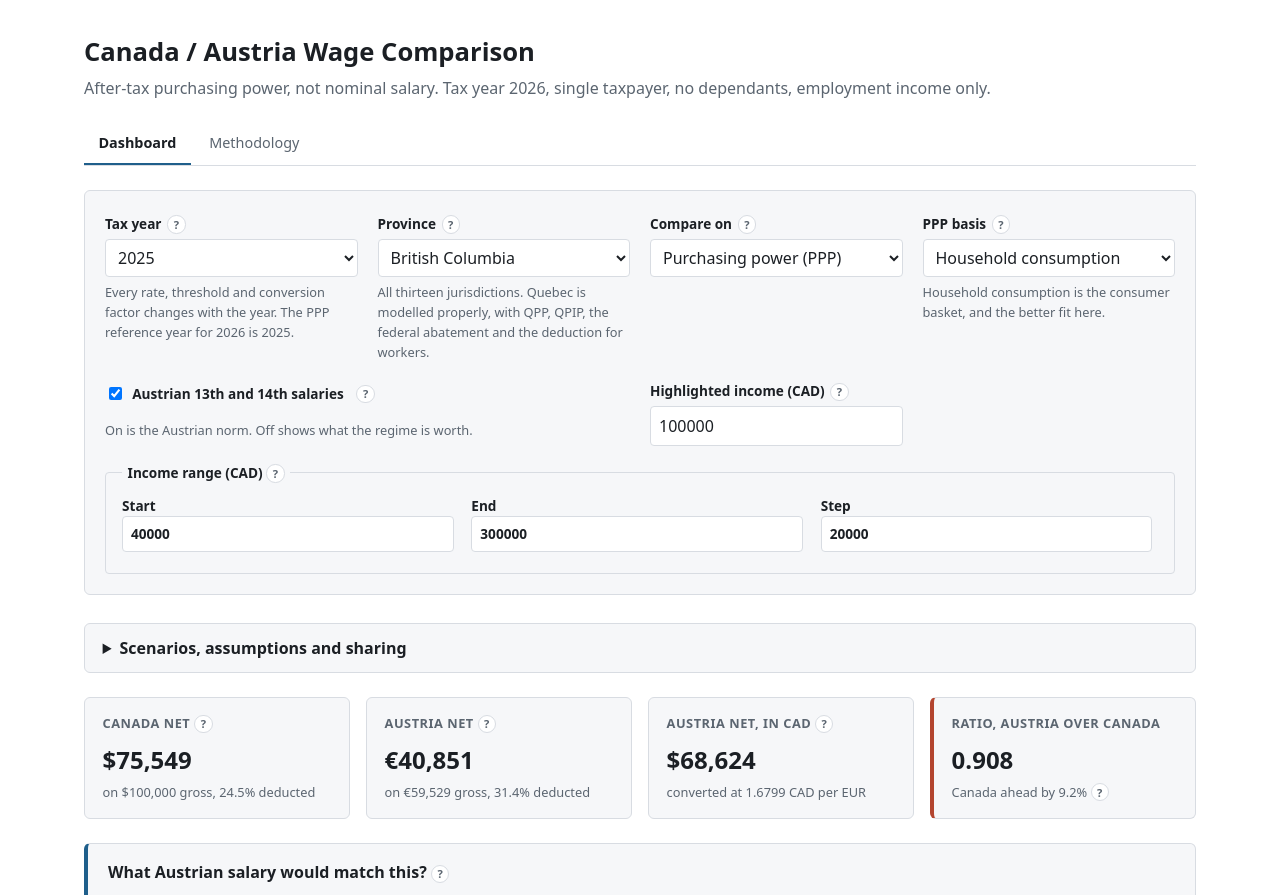
Test: App › names the selected tax year in the lede
Select "2025" in the dropdown with id "taxYear" at (231, 258), box top-left (105, 239), bottom-right (358, 277)
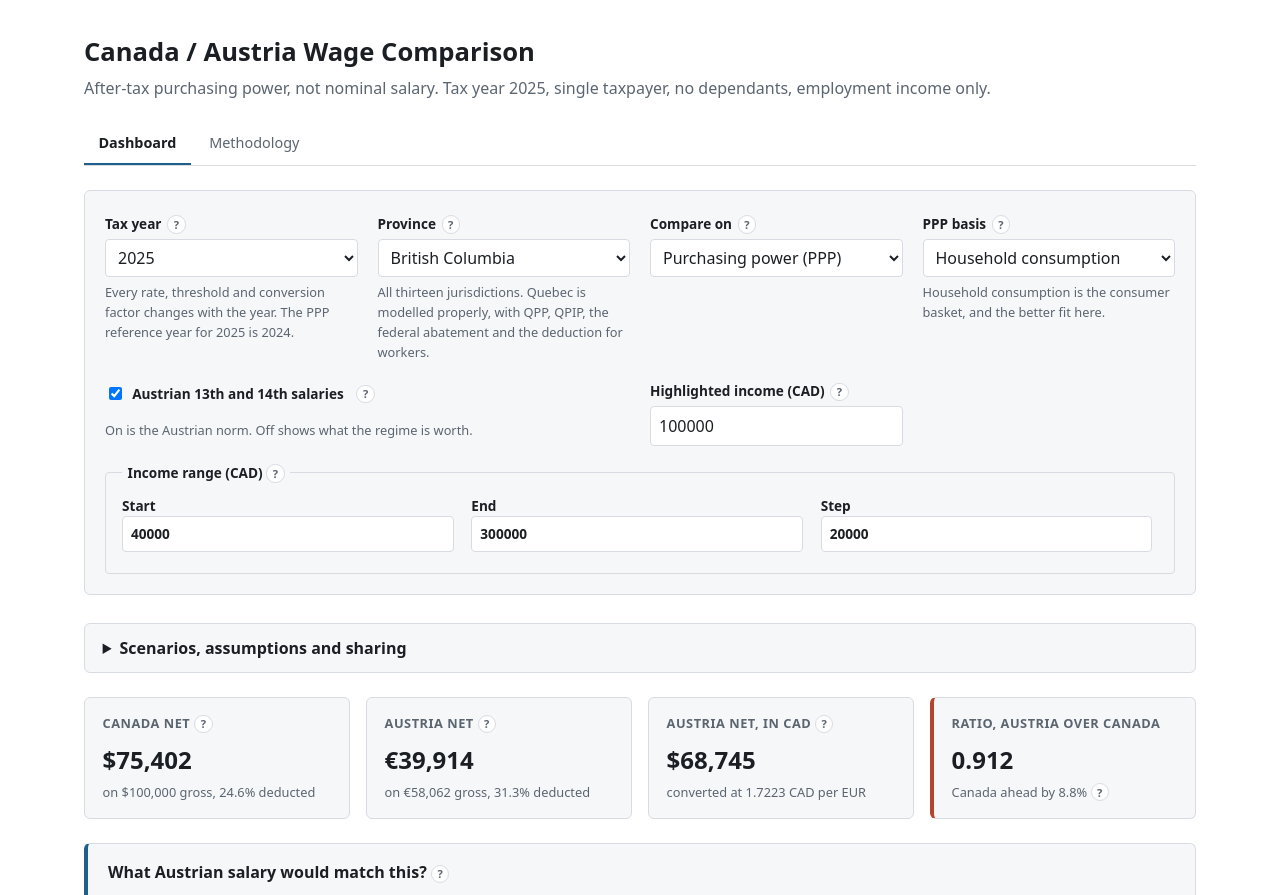
Now the text with class "lede" shows "Tax year 2025", box top-left (84, 77), bottom-right (991, 99)
